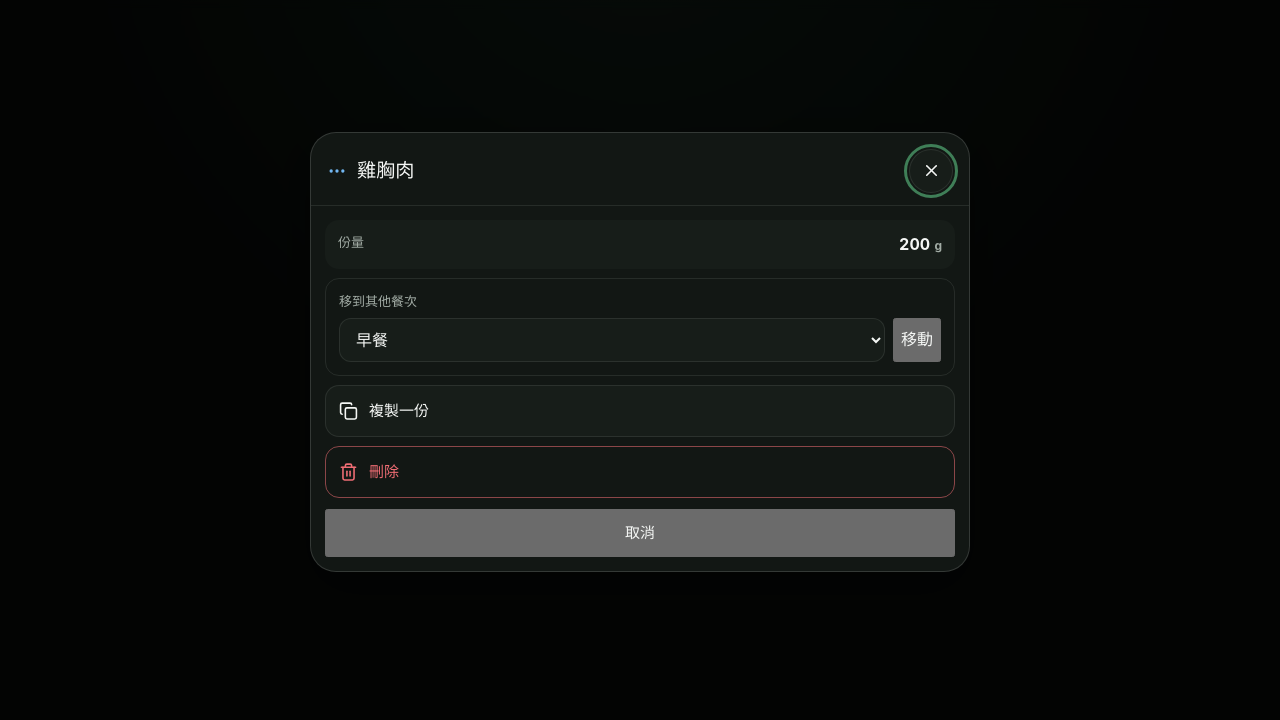
it: meal operation sheets › shows an in-dialog error and stays open when a meal mutation fails
Click the button "複製一份" at (399, 411), box [325, 385, 955, 437]
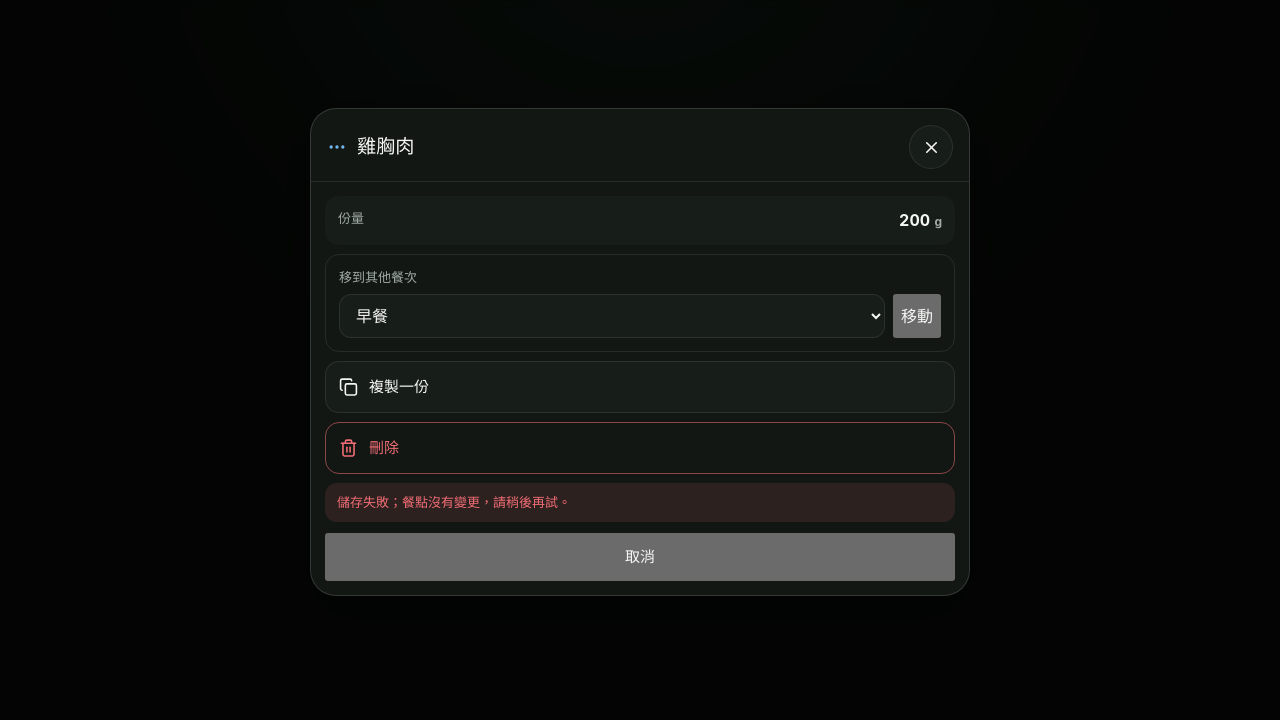
Expected: the dialog "雞胸肉" is shown, [310, 108, 970, 596]
Expected: the message shows "儲存失敗", [337, 494, 571, 510]
